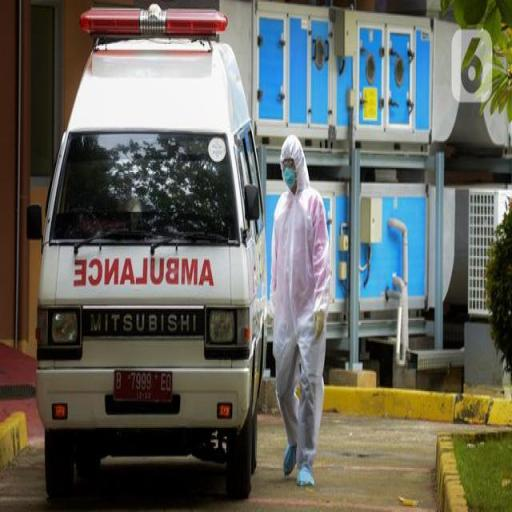Police car: (26, 1, 274, 508)
